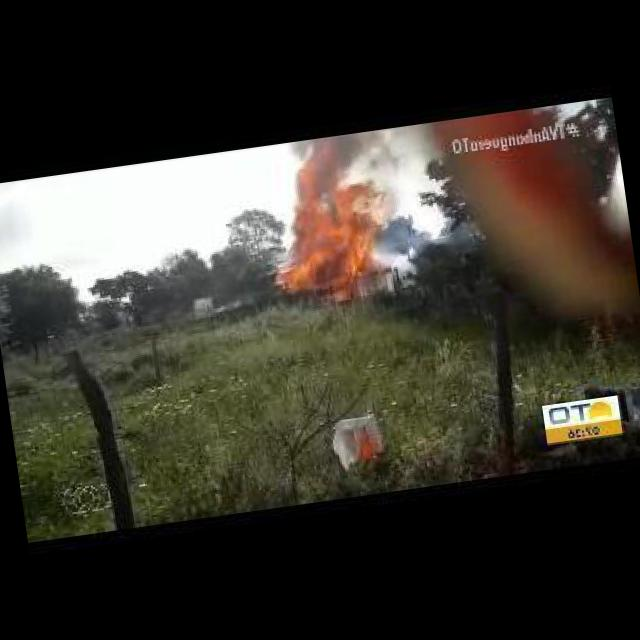Fire: (261, 144, 393, 294), (257, 126, 400, 192)
